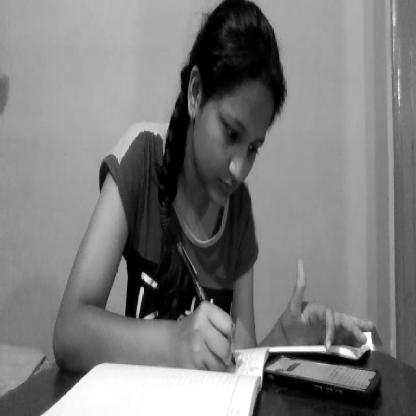Distracted: (179, 2, 288, 222)
